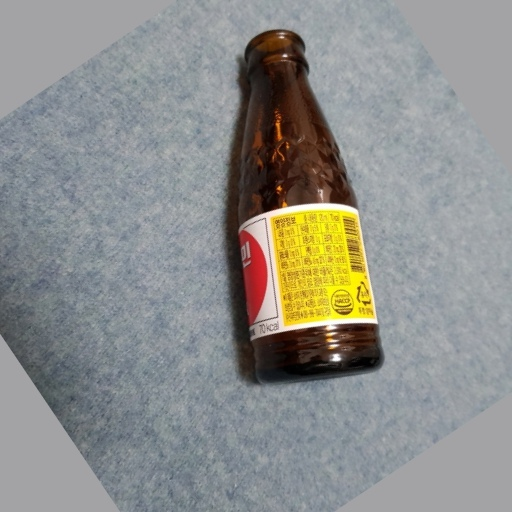Glass_3: (220, 22, 390, 386)
